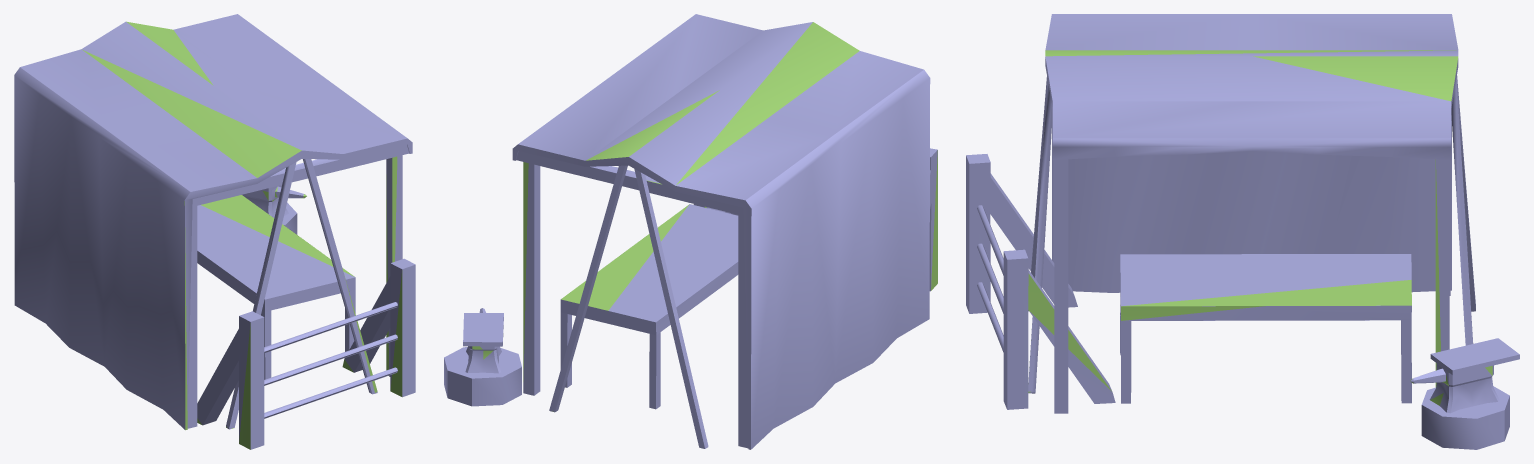
3 views of the same model, side by side, from view 1: azimuth 30°, elevation 25°; view 2: azimuth 150°, elevation 25°; view 3: azimuth 270°, elevation 25° (orthographic). The views are drawn at different scales.
Visible parts, largest first — view 1: 000-0-0; view 2: 000-0-0; view 3: 000-0-0.
Part boxes in pixels (x1=…): 000-0-0: x1=14, y1=14, x2=415, y2=449; 000-0-0: x1=444, y1=14, x2=937, y2=449; 000-0-0: x1=966, y1=14, x2=1519, y2=449.
Size of the model in its own units: 1.39 by 1.19 by 2.
